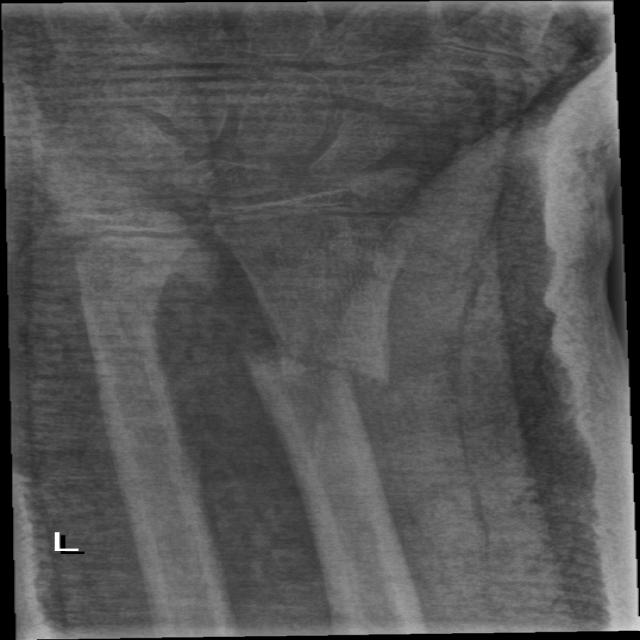radius fracture: (227, 293, 404, 456)
